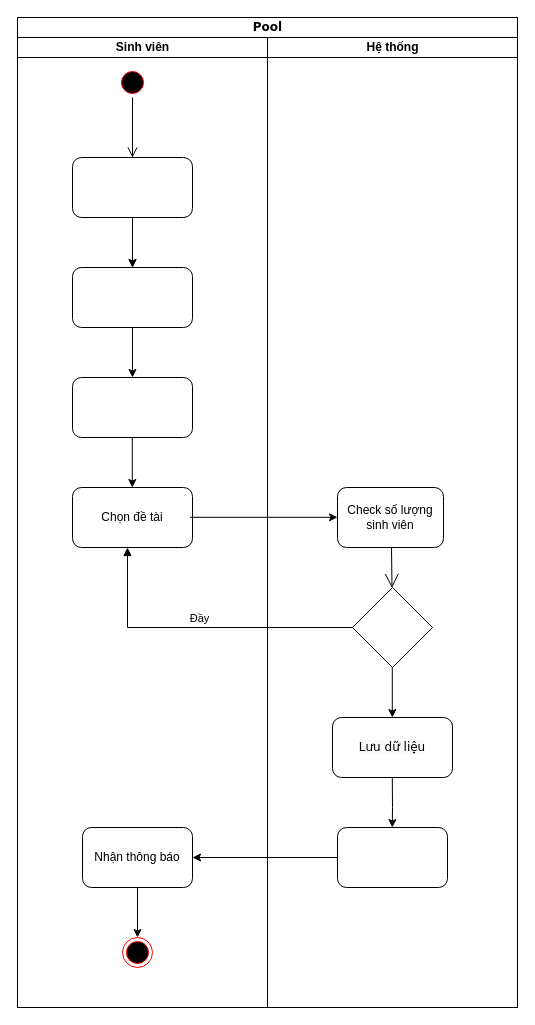
Image size: 535x1025. Some labels were removed from this diagram. Each missing label, with the centre of its shape:
"Chọn giảng viên" belongs at (x=132, y=407).
"Chọn học phần" belongs at (x=132, y=187).
"Click Đăng lý ĐA" belongs at (x=132, y=297).
"Thông báo xác nhận" belongs at (x=392, y=857).
